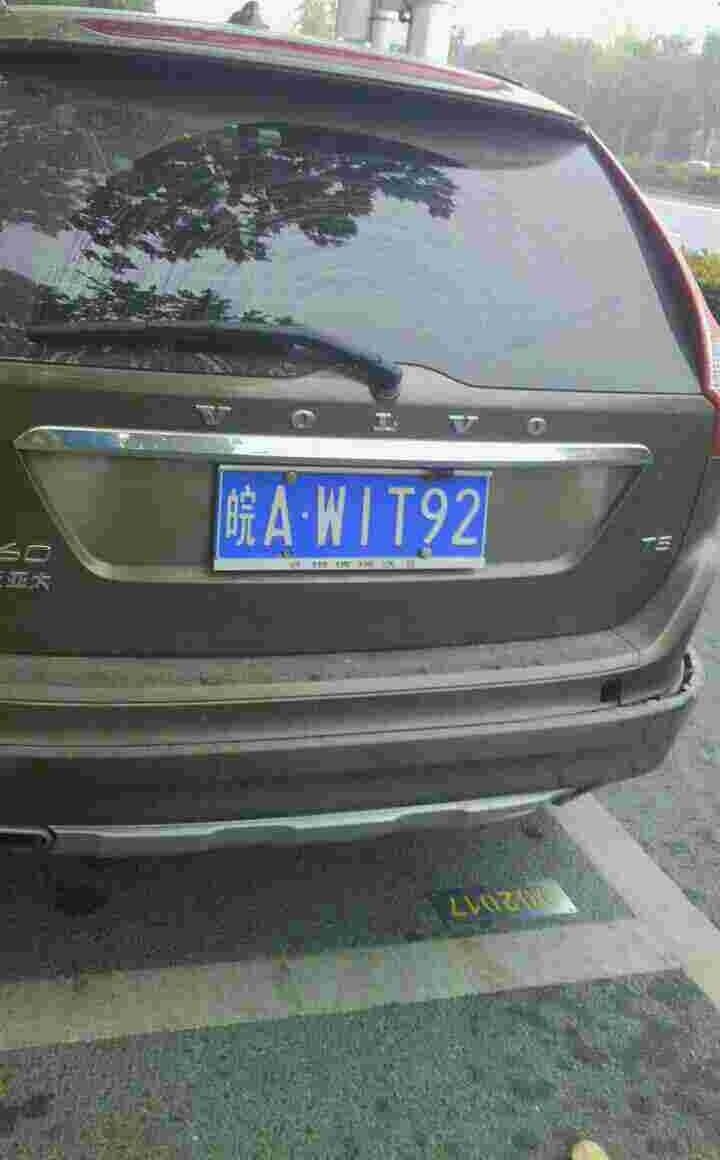plate: (220, 467, 503, 566)
